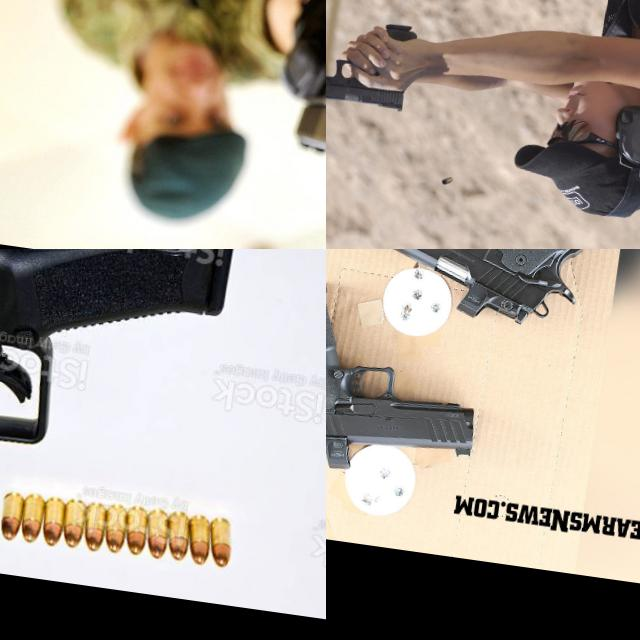handgun: (0, 249, 246, 581), (326, 263, 494, 487), (329, 249, 629, 358), (326, 48, 409, 117)
